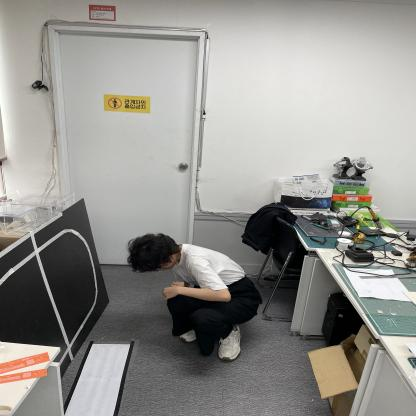fall: (127, 225, 260, 363)
